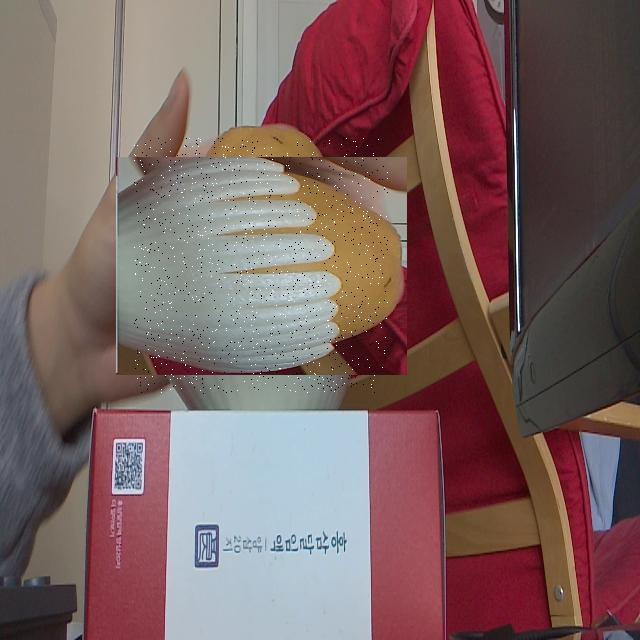pear: (134, 138, 388, 394)
